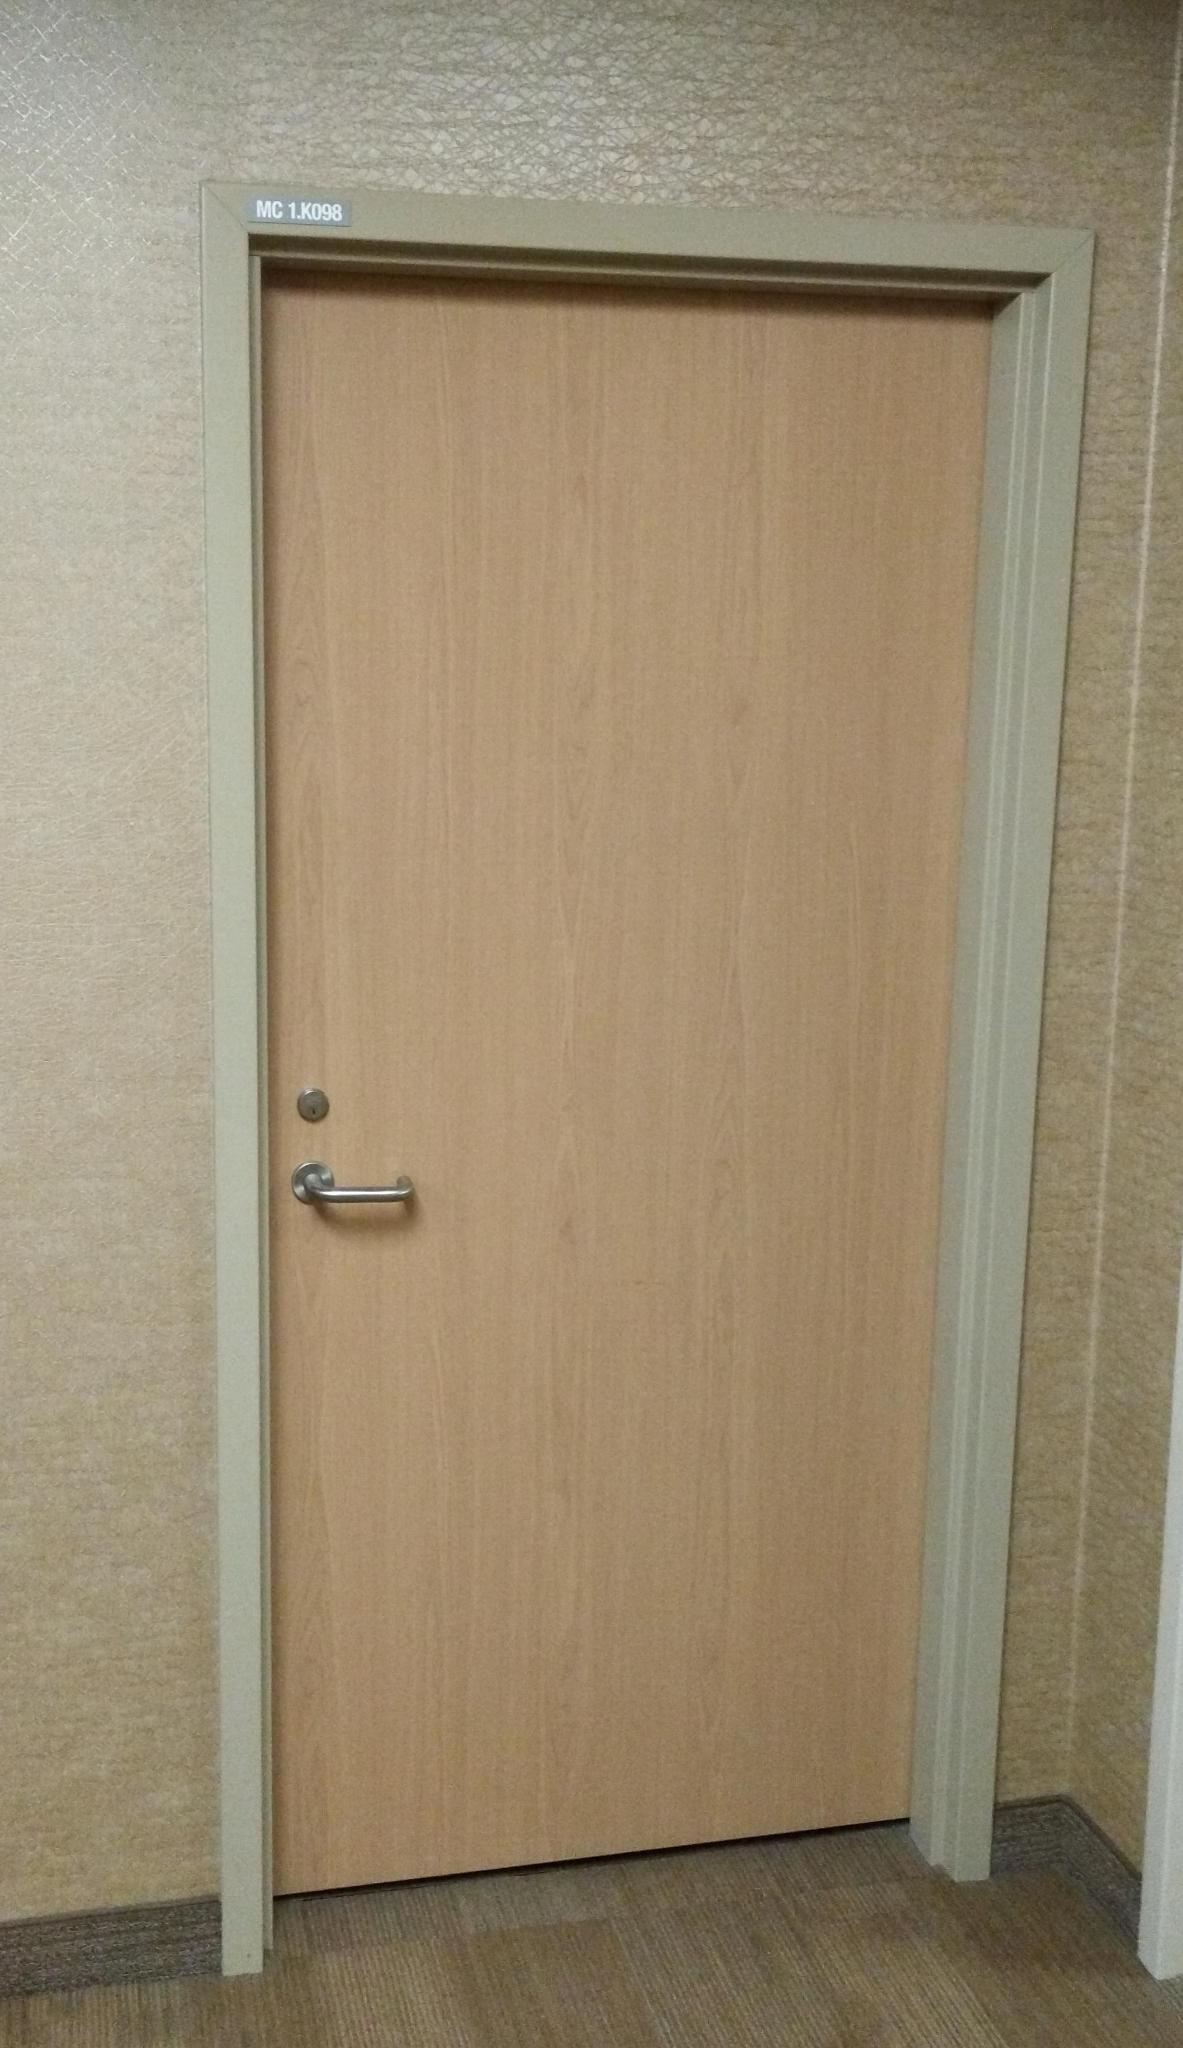door: (269, 293, 913, 1826)
handle: (308, 1171, 417, 1236)
